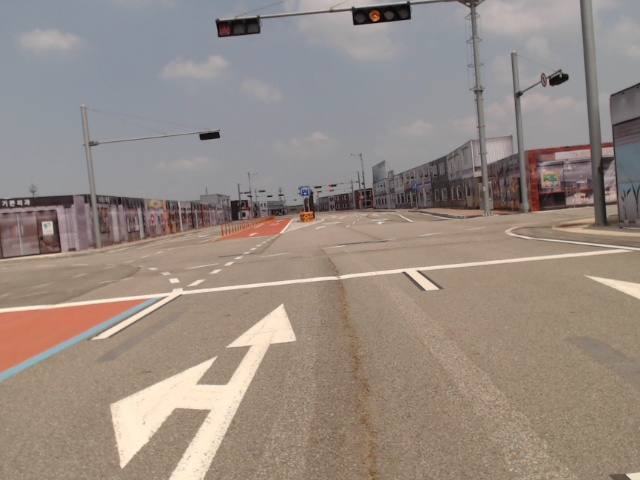orange_4: (353, 5, 411, 25)
